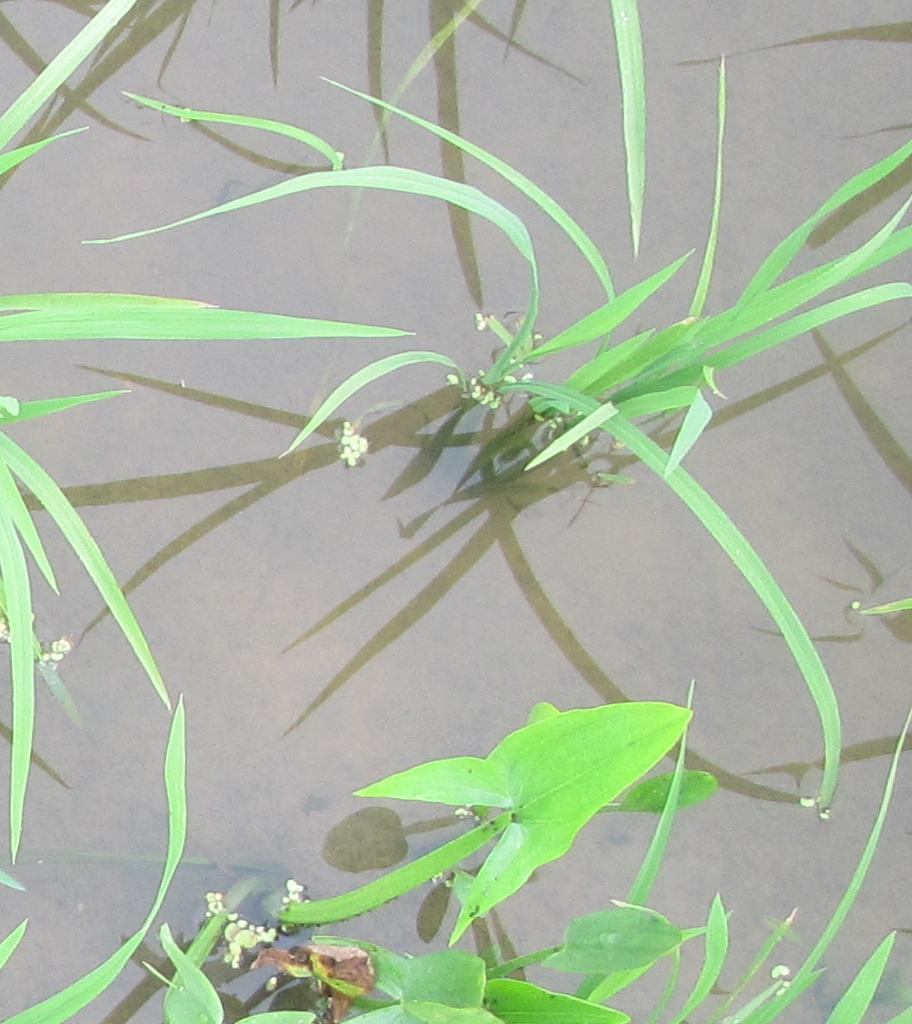Weed: (164, 903, 663, 1024), (377, 699, 697, 857)
